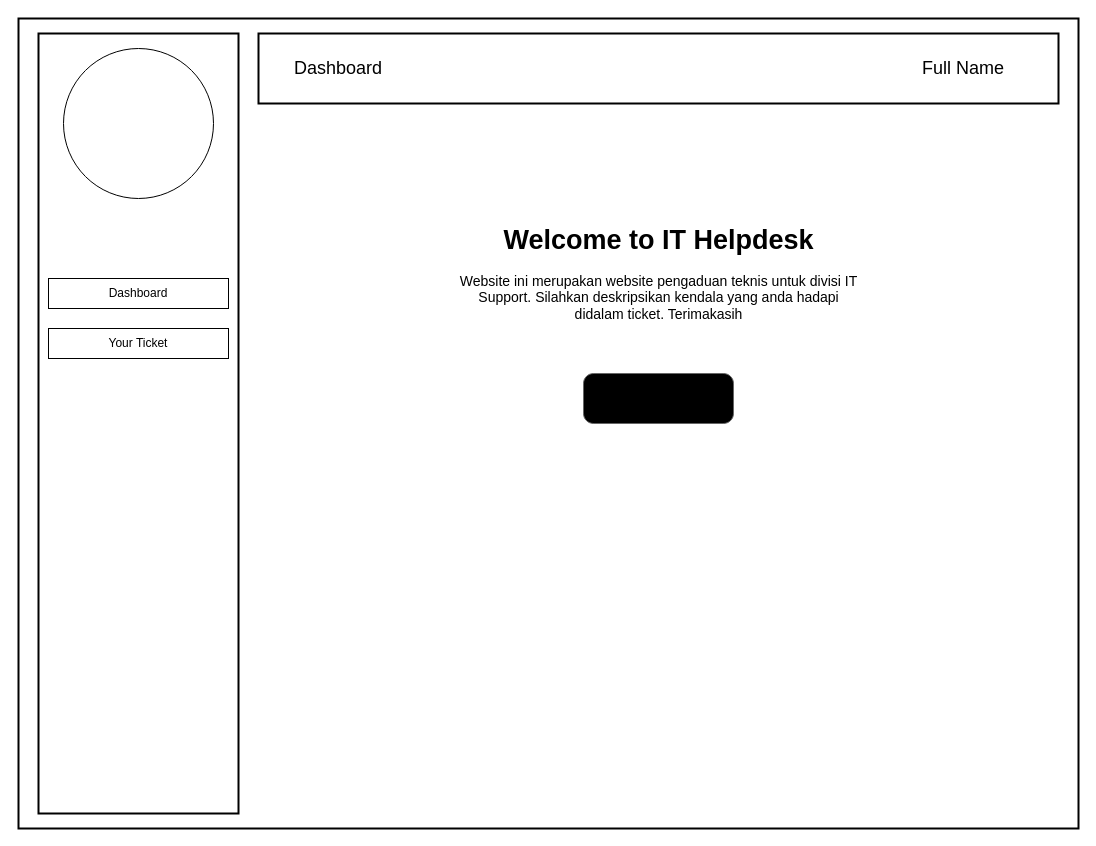
Image size: 1096x846. Some labels were removed from this diagram. Each missing label, with the centre of its shape:
"Create Ticket" goes at pixel 658 398.
"Logo" goes at pixel 138 123.
